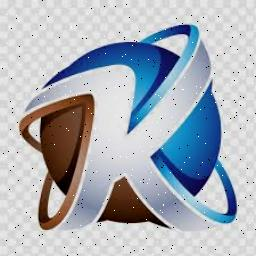k: (70, 54, 212, 234)
